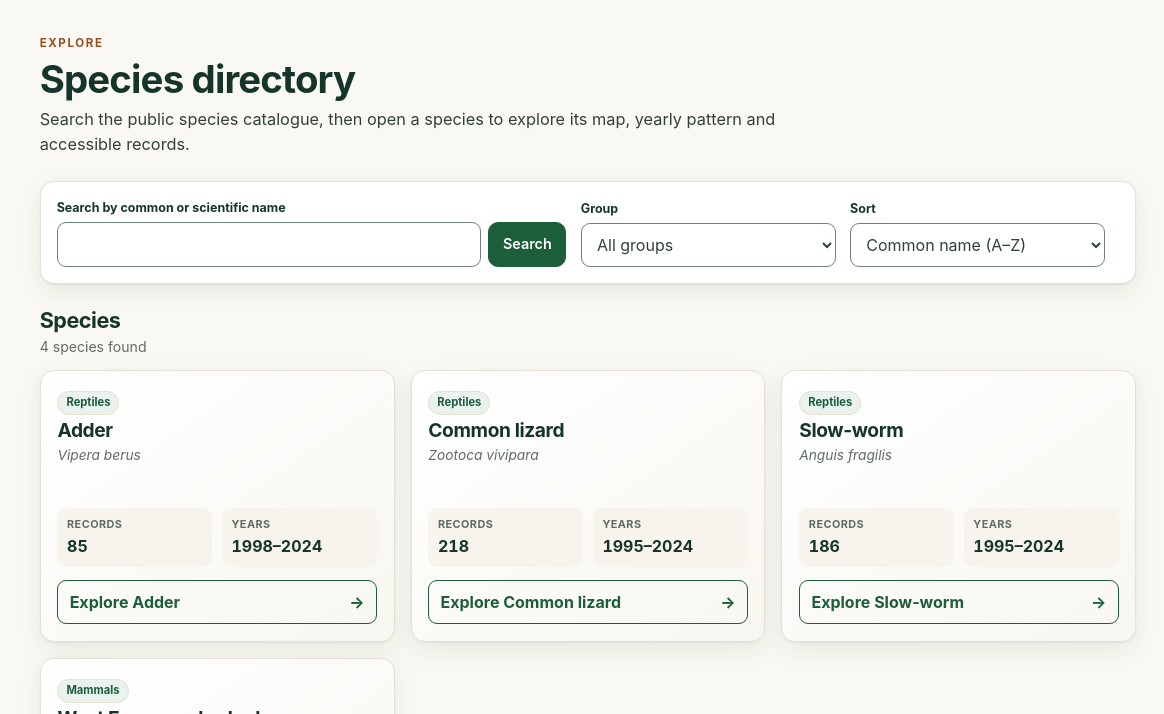
Scenario: SpeciesList — server-driven public directory › searches, sorts and groups through URL-backed server queries
expect the link "Explore Adder →" is shown: met, box [57,580,377,624]
Step 1. Type "zootoca" into the search field labelled "Search by common or scientific name" → x=269, y=245, box [57,222,481,267]
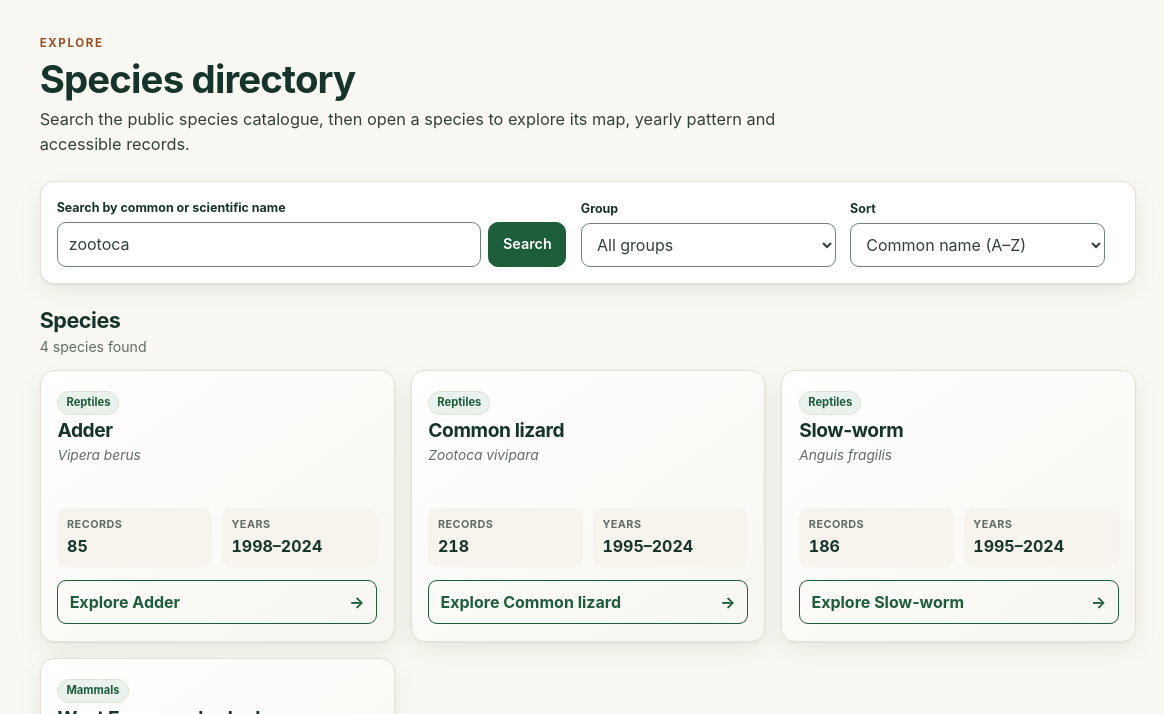
Step 2. Submit the form named "Filter the species directory", box [40,181,1136,284]
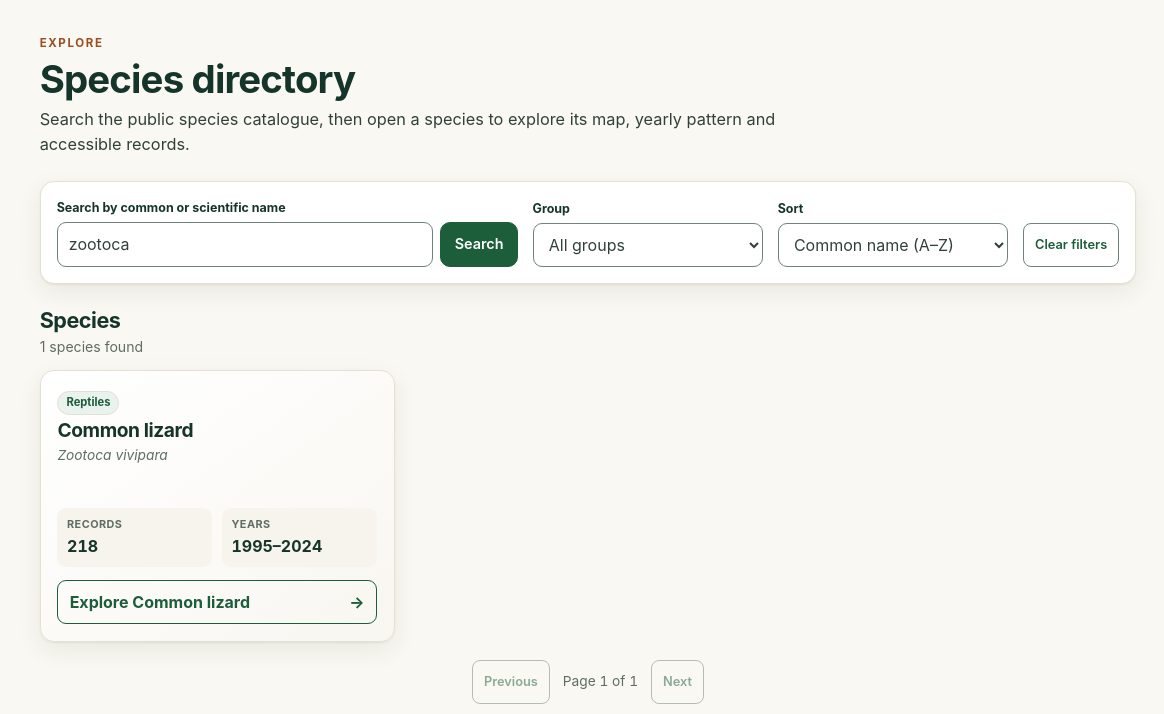
expect the link "Explore Common lizard →" is shown: met, box [57,580,377,624]
expect the link "Explore Adder" is gone: met
Step 3. Click the button "Clear filters" → x=1071, y=245, box [1023,223,1119,267]
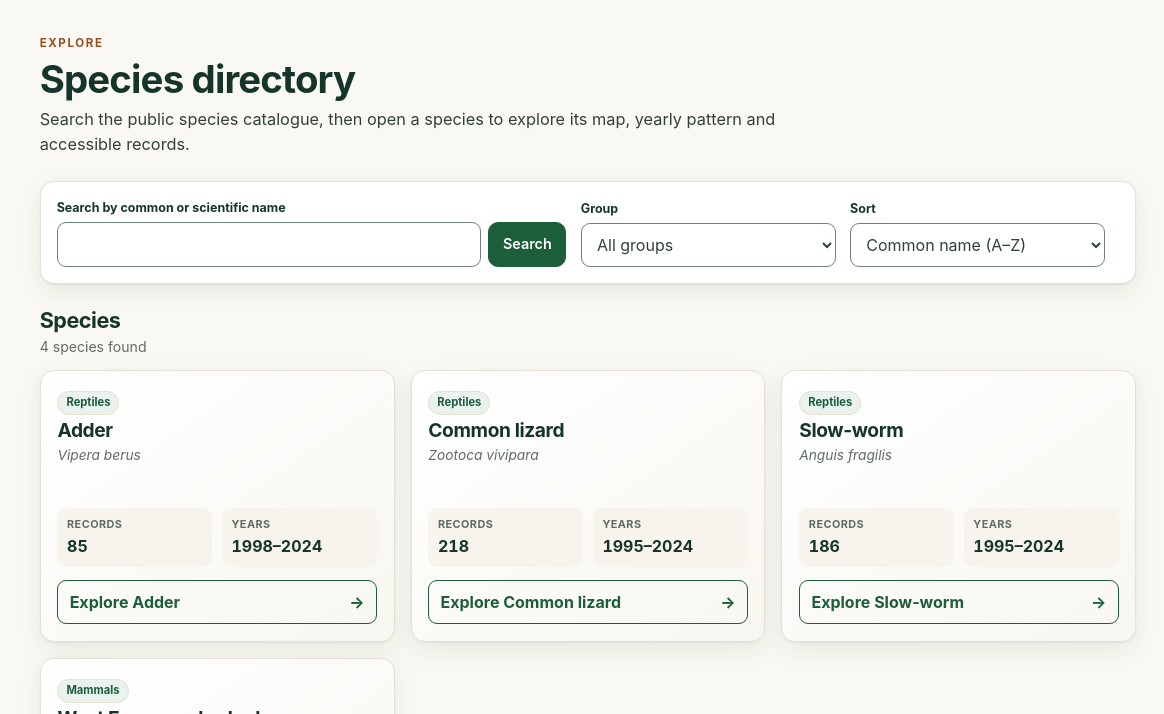
expect the link "Explore Adder →" is shown: met, box [57,580,377,624]
Step 4. Select "Most records" in the dropdown labelled "Sort" → x=978, y=245, box [850,223,1105,267]
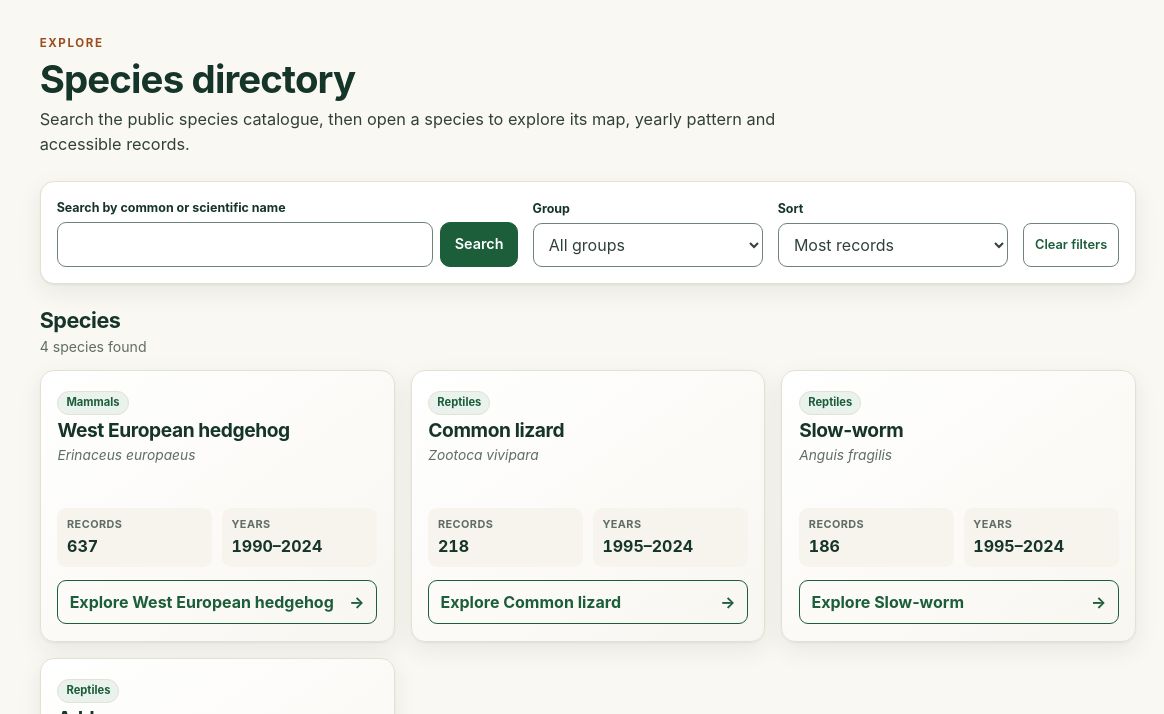
expect the link "Explore West European hedgehog →" is shown: met, box [57,580,377,624]
Step 5. Select "Reptiles (3)" in the dropdown labelled "Group" → x=648, y=245, box [532,223,763,267]
(page scrolled)
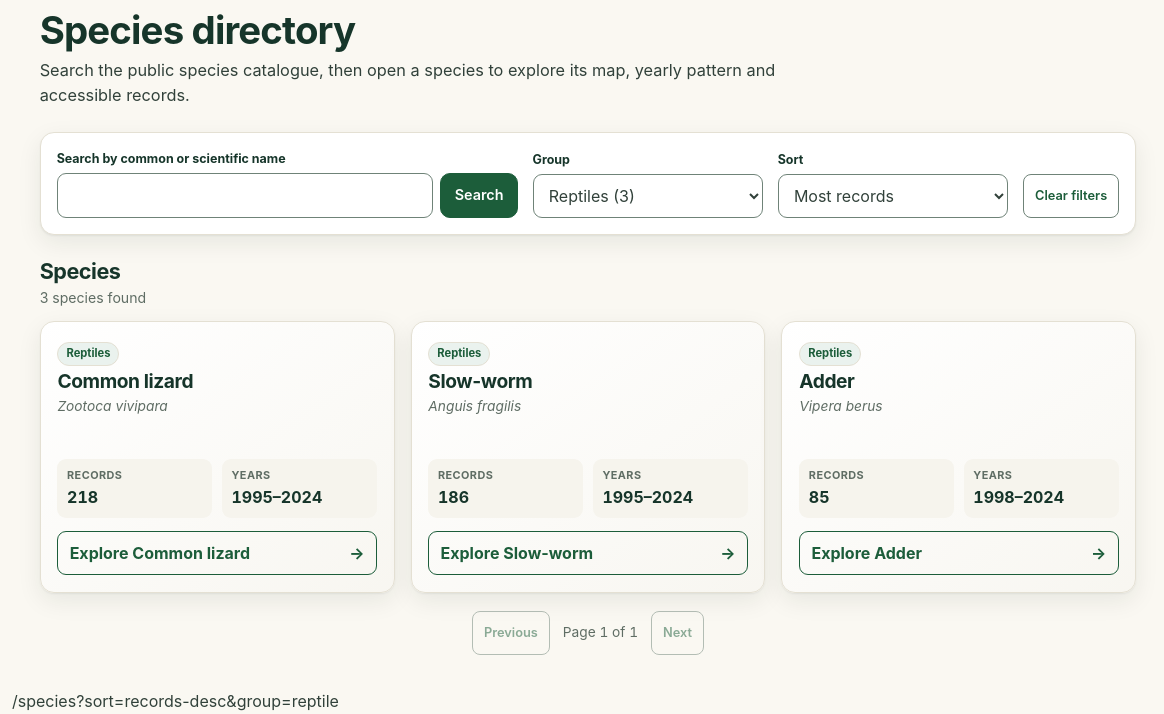
expect the link "Explore Adder →" is shown: met, box [799,531,1119,575]
expect the heading "West European hedgehog" is gone: met
expect the text with test id "location" shows "group=reptile": met, box [76,691,339,711]
